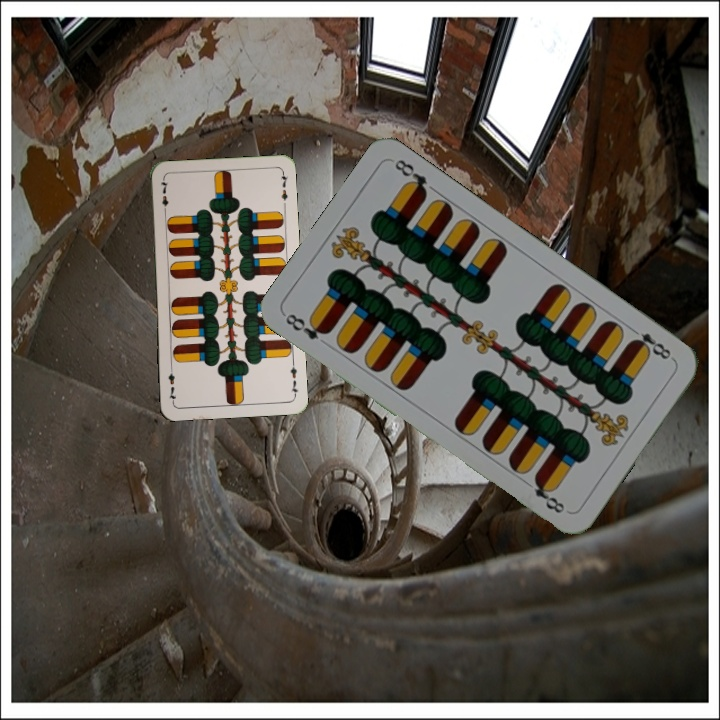E7: (156, 176, 171, 216), (286, 358, 301, 398)
E8: (626, 323, 677, 363), (281, 309, 333, 342)
